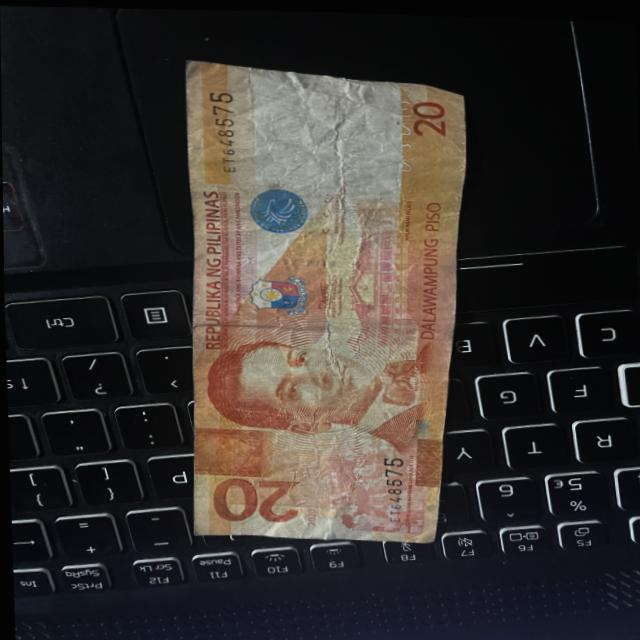concealed_value: (187, 428, 274, 478)
serial_number: (197, 81, 242, 179), (375, 438, 409, 531)
value: (209, 460, 313, 531)
watermark: (211, 80, 392, 190)
